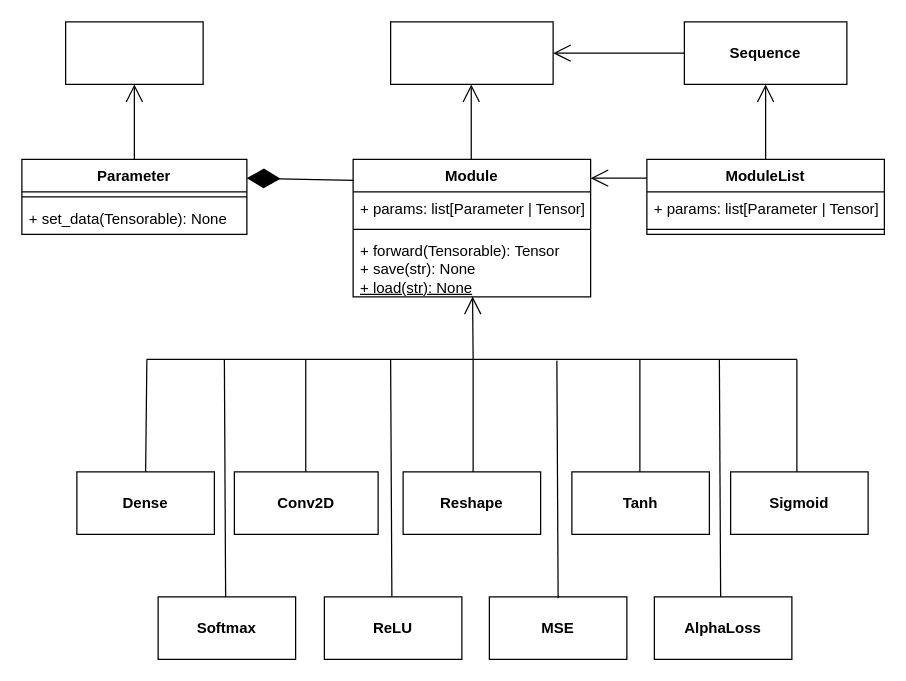
This 906x681 diagram has some shape labels left out. Here are the shapes that lost their labels. From the top down, the centre of each, then its label:
point 133,52: Tensor
point 471,52: Abstract Base Class (ABC)
